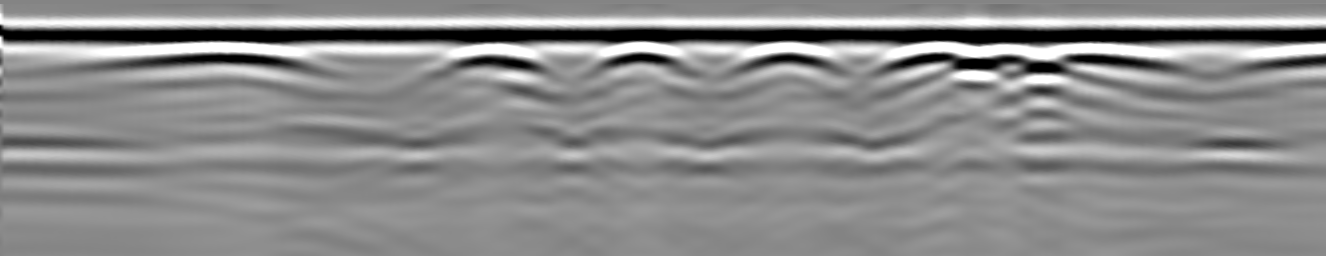steel: (885, 41, 1191, 72), (83, 42, 322, 69), (730, 42, 846, 73), (584, 45, 703, 72), (433, 45, 548, 69)
